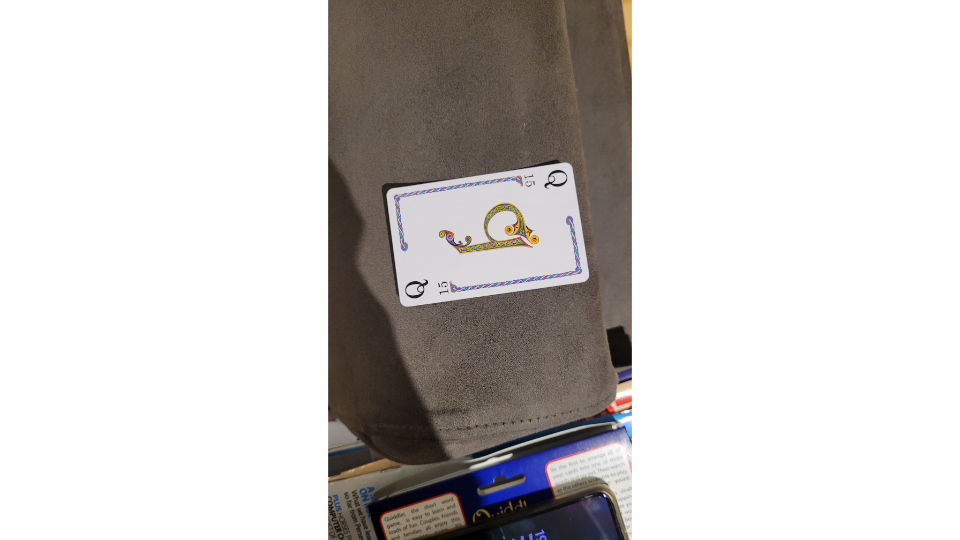Q: (383, 159, 593, 309)
